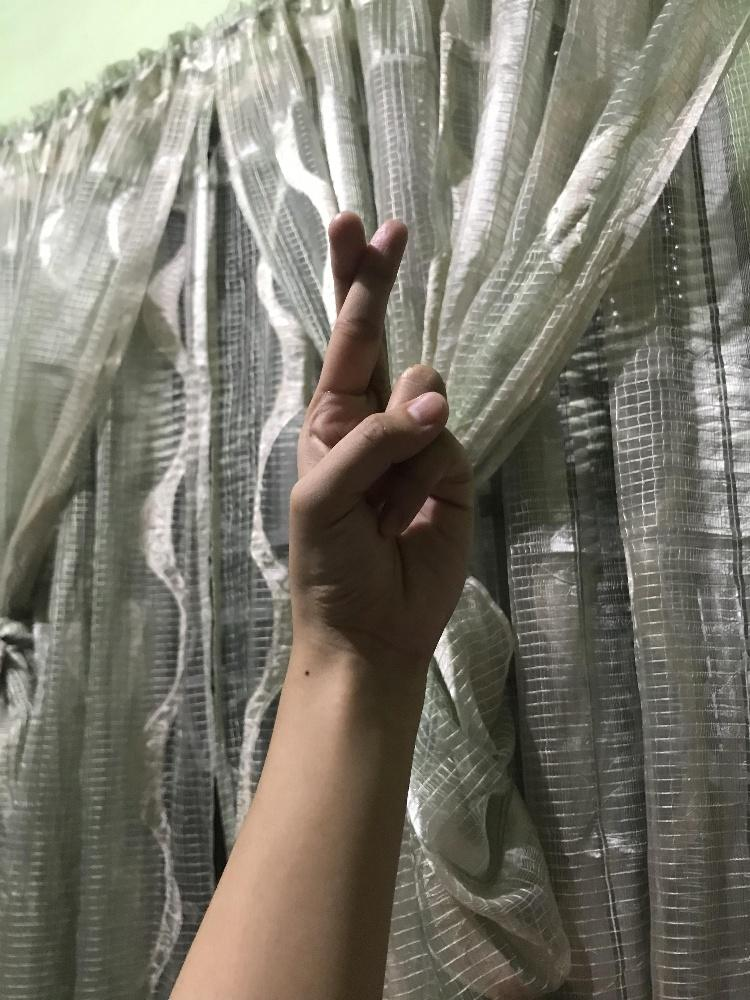r: (281, 202, 481, 645)
